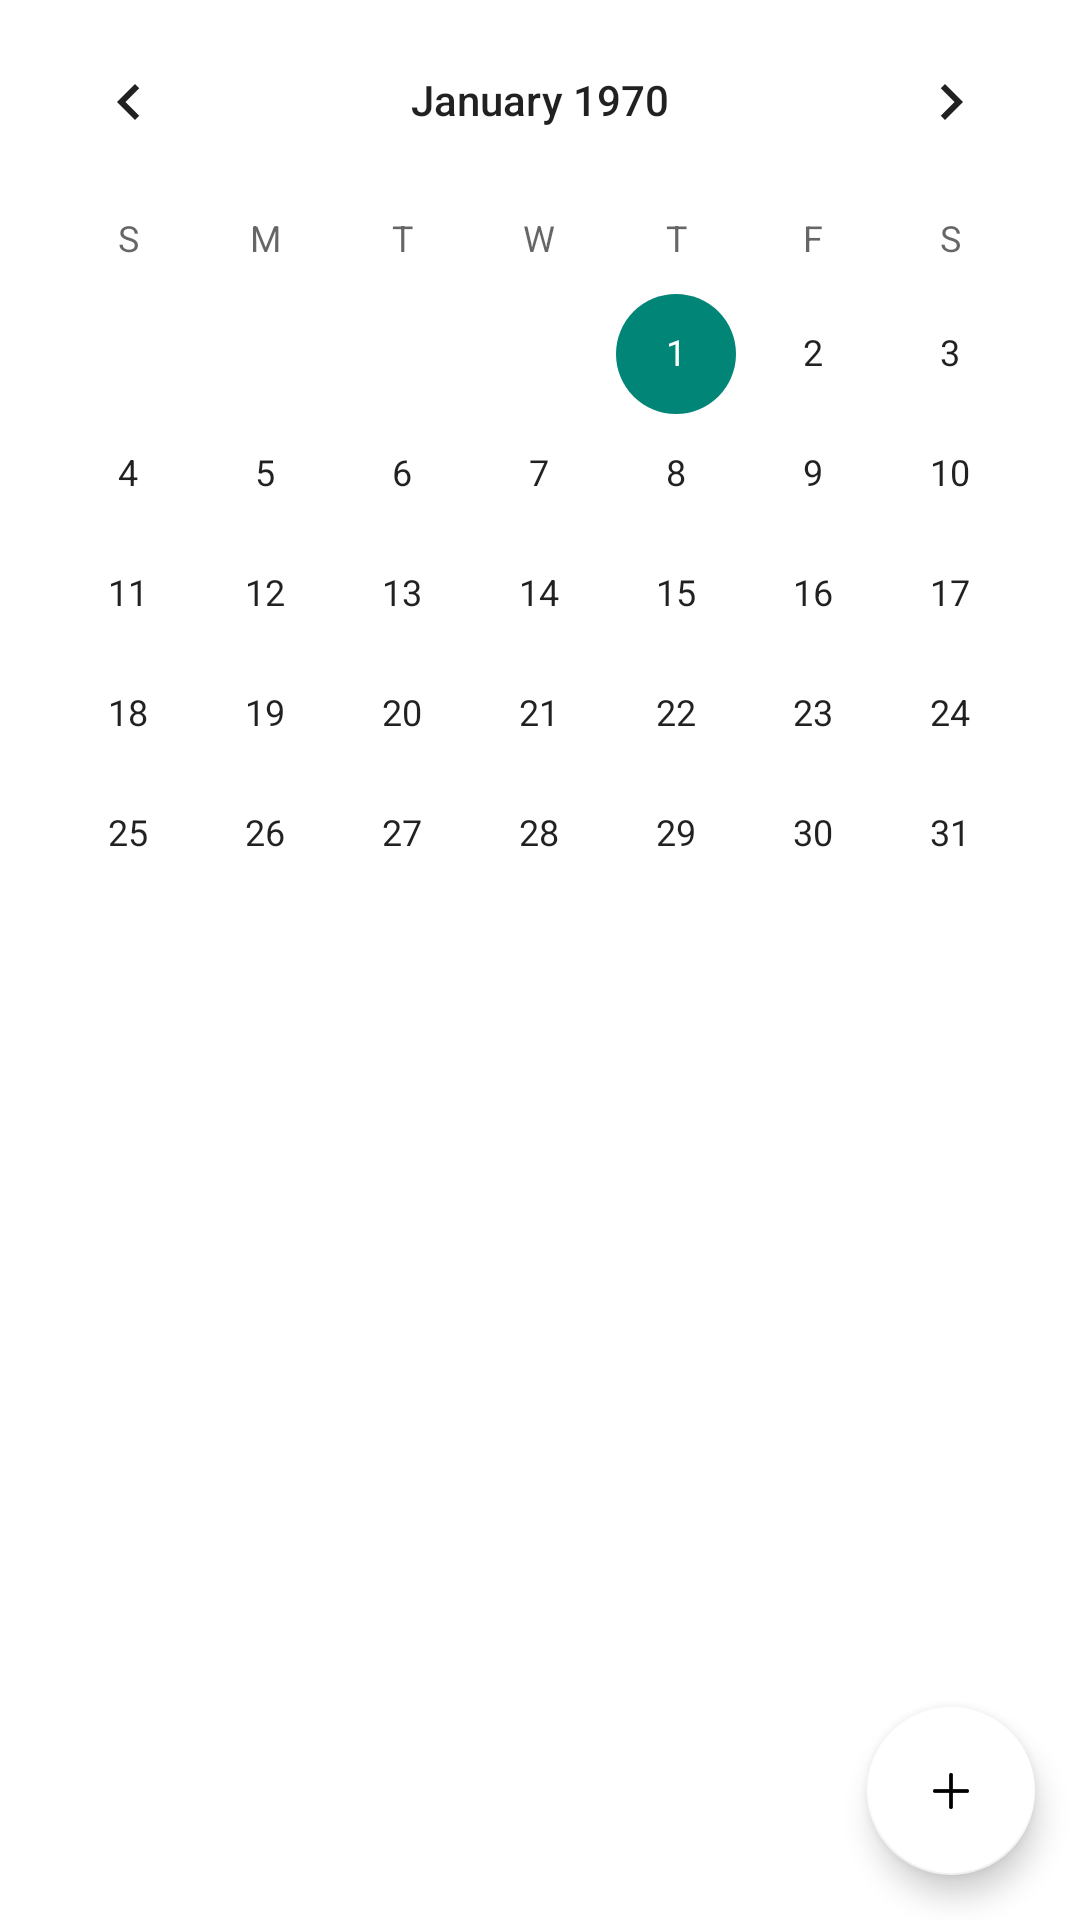

Named icons in this screenshot (1080×1920) and their bounding boxes, Rect(x1, y1, x2, y2):
add: Rect(872, 1773, 1035, 1875)
